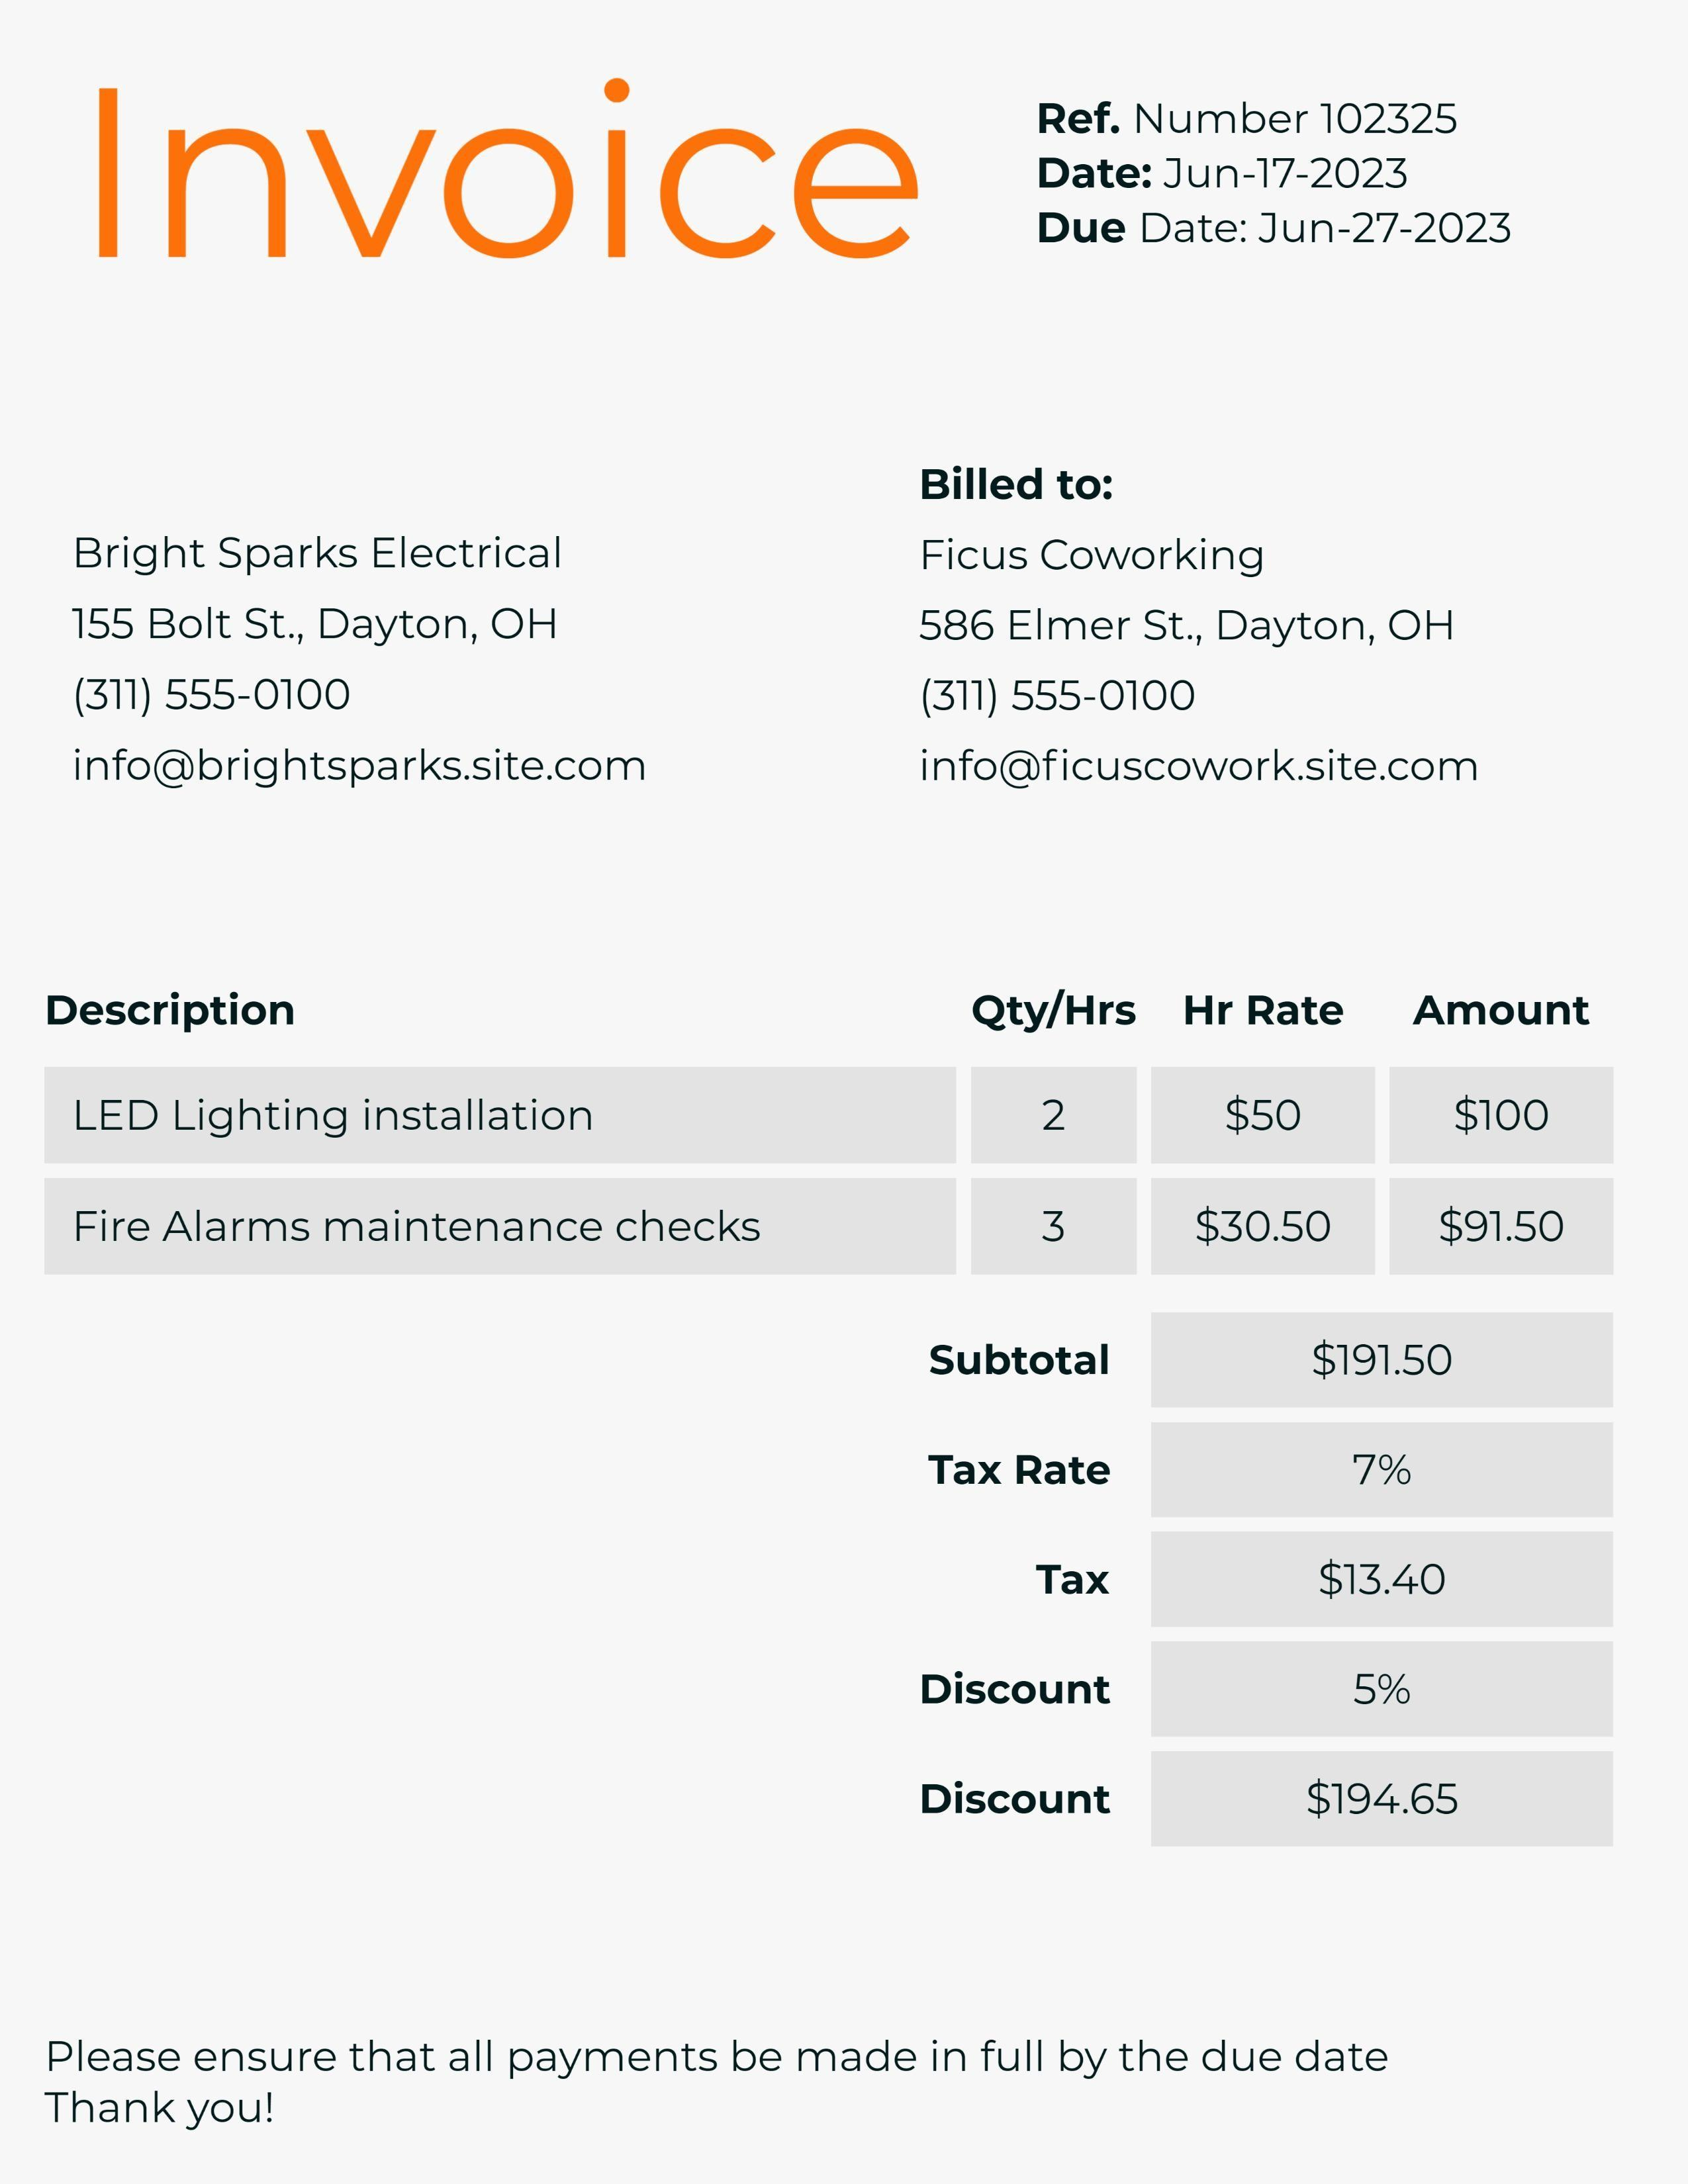ROI: (32, 982, 1603, 1252), (906, 1328, 1481, 1835), (906, 450, 1491, 792), (53, 530, 644, 791), (39, 2028, 1408, 2138), (1030, 94, 1541, 268)
